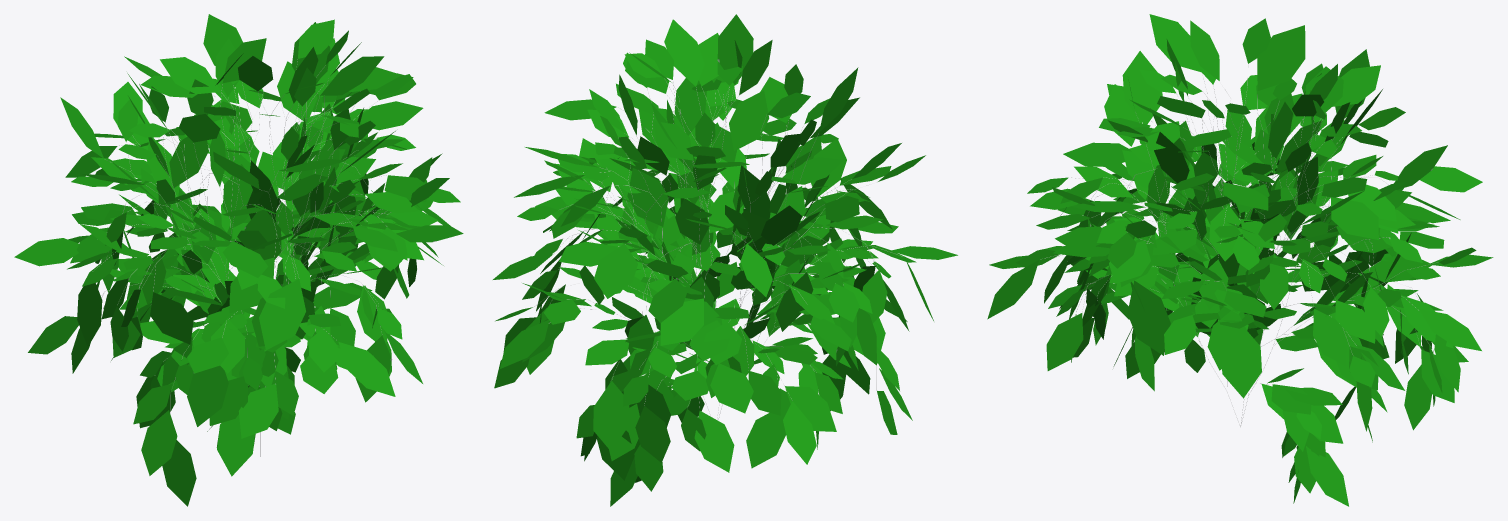
The model's file is Plant.fbx.
3 views of the same model, side by side, from view 1: azimuth 30°, elevation 25°; view 2: azimuth 150°, elevation 25°; view 3: azimuth 270°, elevation 25° (orthographic). The views are drawn at different scales.
Visible parts, largest first — view 1: leaves, tree; view 2: leaves, tree; view 3: leaves, tree.
Part boxes in pixels (bbox=[...]): leaves: bbox=[14, 14, 463, 506]; tree: bbox=[92, 59, 390, 456]; leaves: bbox=[493, 14, 957, 506]; tree: bbox=[534, 78, 903, 419]; leaves: bbox=[987, 14, 1493, 506]; tree: bbox=[1040, 64, 1437, 426].
Size of the model in its own units: 658 by 744 by 759.
Materials: 1 (1 with a texture image).
